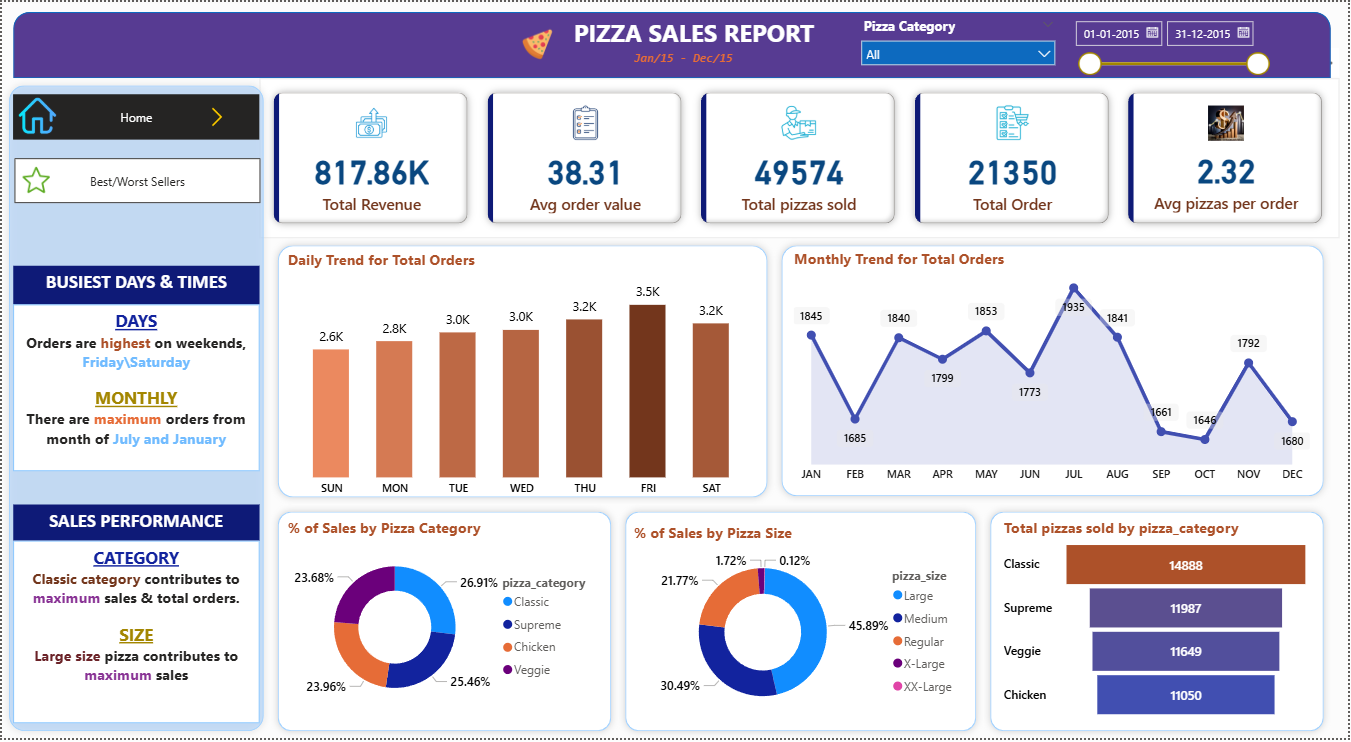

This screenshot's page, from the dashboard's own definition file:
{"tool":"powerbi","page":{"name":"Home","canvas":[1500,820],"ordinal":0},"visuals":[{"type":"cardVisual","fields":{"Data":["pizza_sales.Total Revenue","pizza_sales.Avg order value","pizza_sales.Total pizzas sold","pizza_sales.Total Order","pizza_sales.Avg pizzas per order"]},"box":[286.9,85,1203.3,178.3],"z":0},{"type":"shape","box":[12.5,11.1,1467.9,73.8],"z":1000},{"type":"textbox","box":[551.5,11.1,438.7,51.5],"z":2000},{"type":"textbox","box":[699.1,47.4,136.5,37.6],"z":3000},{"type":"image","box":[564,25.1,65.5,44.6],"z":4000},{"type":"shape","box":[299.4,263.2,561.2,296.6],"z":5000},{"type":"columnChart","title":"Daily Trend for Total Orders","fields":{"Y":["pizza_sales.Total Order"],"Category":["pizza_sales.Order Day"]},"box":[313.4,275.7,532,284.1],"z":6000},{"type":"shape","box":[860.7,263.2,619.7,295.2],"z":7000},{"type":"areaChart","title":"Monthly Trend for Total Orders","fields":{"Category":["pizza_sales.Order Month"],"Y":["pizza_sales.Total Order"]},"box":[877.4,274.4,584.9,270.2],"z":8000},{"type":"shape","box":[299.4,559.9,387.2,260.4],"z":9000},{"type":"shape","box":[686.6,559.9,406.7,260.4],"z":10000},{"type":"shape","box":[0,85,299.4,735.3],"z":11000},{"type":"shape","box":[1093.2,559.9,387.2,260.4],"z":12000},{"type":"donutChart","title":"% of Sales by Pizza Category","fields":{"Category":["pizza_sales.pizza_category"],"Y":["pizza_sales.Total Revenue"]},"box":[313.4,573.8,357.9,224.2],"z":13000},{"type":"donutChart","title":"% of Sales by Pizza Size","fields":{"Category":["pizza_sales.pizza_size"],"Y":["pizza_sales.Total Revenue"]},"box":[699.1,579.4,377.4,224.2],"z":14000},{"type":"funnel","fields":{"Y":["pizza_sales.Total pizzas sold"],"Category":["pizza_sales.pizza_category"]},"box":[1111.4,573.8,351,229.8],"z":15000},{"type":"textbox","box":[12.5,293.9,274.4,43.2],"z":16000},{"type":"textbox","box":[12.5,337,274.4,185.2],"z":17000},{"type":"textbox","box":[12.5,600.2,274.4,203.3],"z":18000},{"type":"textbox","box":[12.5,559.9,274.4,40.4],"z":19000},{"type":"slicer","fields":{"Values":["pizza_sales.pizza_category"]},"box":[947,11.1,236.8,73.8],"z":20000},{"type":"slicer","fields":{"Values":["pizza_sales.order_date"]},"box":[1183.8,11.1,236.8,73.8],"z":21000},{"type":"pageNavigator","box":[12.5,103.1,274.4,50.1],"z":22000},{"type":"pageNavigator","box":[13.9,174.1,274.4,50.1],"z":23000},{"type":"image","box":[190.8,112.8,97.5,30.6],"z":24000},{"type":"image","box":[13.9,100.3,51.5,52.9],"z":25000},{"type":"image","box":[12.5,178.3,51.5,40.4],"z":25001}]}

Visuals, with their boxes in screenshot pixels (x1, y1, x2, y2), scaled from the page's 1500x820 canvas onto the 1351x742 screenshot:
cardVisual - pizza_sales.Total Revenue x pizza_sales.Avg order value: bbox=(258, 77, 1342, 238)
shape: bbox=(11, 10, 1333, 77)
textbox: bbox=(497, 10, 892, 57)
textbox: bbox=(630, 43, 753, 77)
image: bbox=(508, 23, 567, 63)
shape: bbox=(270, 238, 775, 507)
"Daily Trend for Total Orders" columnChart: bbox=(282, 249, 761, 507)
shape: bbox=(775, 238, 1333, 505)
"Monthly Trend for Total Orders" areaChart: bbox=(790, 248, 1317, 493)
shape: bbox=(270, 507, 618, 741)
shape: bbox=(618, 507, 985, 741)
shape: bbox=(0, 77, 270, 741)
shape: bbox=(985, 507, 1333, 741)
"% of Sales by Pizza Category" donutChart: bbox=(282, 519, 605, 722)
"% of Sales by Pizza Size" donutChart: bbox=(630, 524, 970, 727)
funnel - pizza_sales.Total pizzas sold x pizza_sales.pizza_category: bbox=(1001, 519, 1317, 727)
textbox: bbox=(11, 266, 258, 305)
textbox: bbox=(11, 305, 258, 473)
textbox: bbox=(11, 543, 258, 727)
textbox: bbox=(11, 507, 258, 543)
slicer - pizza_sales.pizza_category: bbox=(853, 10, 1066, 77)
slicer - pizza_sales.order_date: bbox=(1066, 10, 1279, 77)
pageNavigator: bbox=(11, 93, 258, 139)
pageNavigator: bbox=(13, 158, 260, 203)
image: bbox=(172, 102, 260, 130)
image: bbox=(13, 91, 59, 139)
image: bbox=(11, 161, 58, 198)
